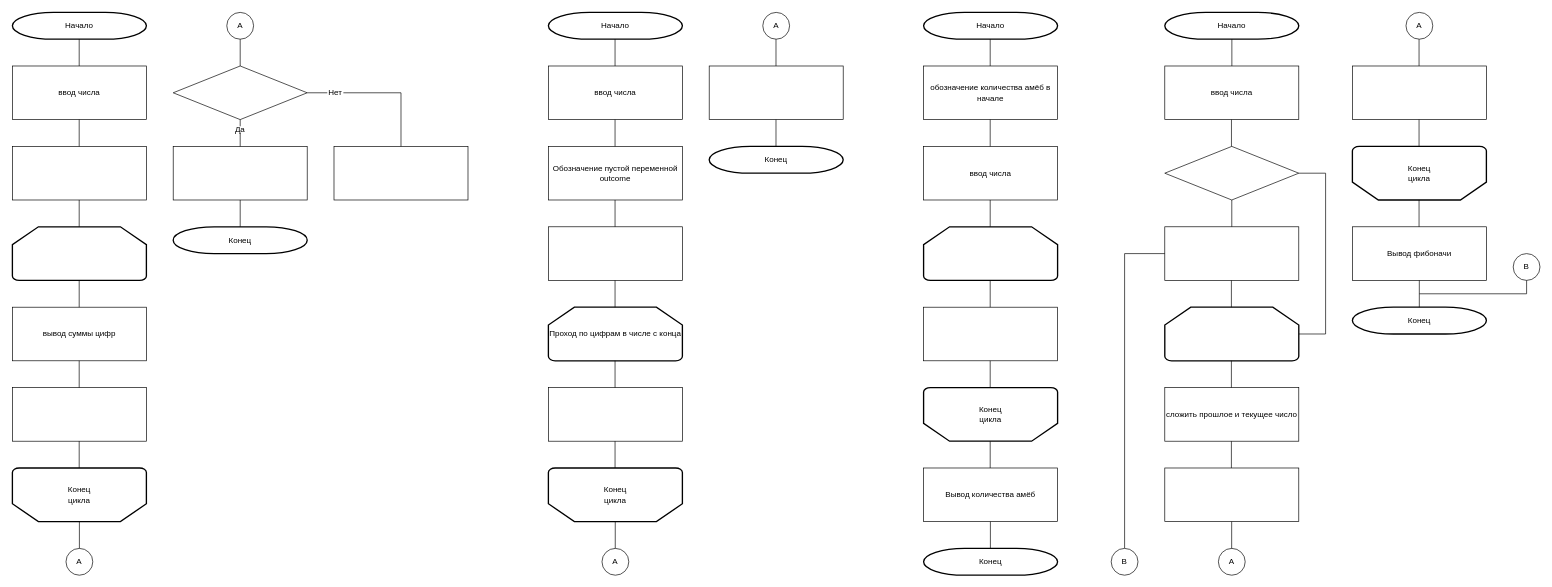
Some shapes in this 1552 by 587 pixel diagram are drawn without their labels. The centre of each missing label's shape, as x and y in pixels:
Вывод "Число должно быть в пределе от 0 до 45": (1231,253)
Вывод "число несчастливое": (400,173)
Вывод "число счастливое": (240,173)
Вывод outcome: (776,92)
Вывод произведения цифр: (79,414)
до конца введенного числа: (1231,333)
если сумма = произведению: (240,92)
Если число больше 45 или меньше 0: (1231,173)
запись цифры числа в outcome: (615,414)
каждые 3 часа до введенного числа: (990,253)
Получение длины числа: (615,253)
получение значения длины числа: (79,173)
Проход по цифрам в числе: (79,253)
прошлое число текущему: (1231,494)
текущее число = сумме 2-х прошлых: (1419,92)
Удвоение количества амёб: (990,334)
